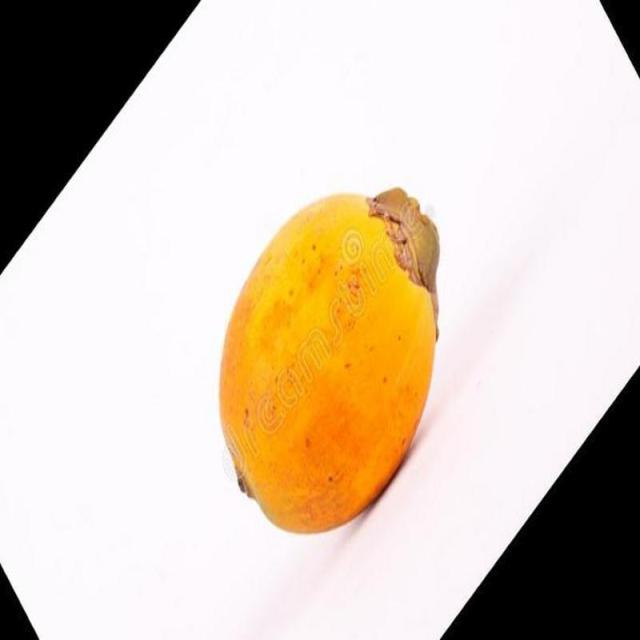good: (217, 191, 438, 538)
